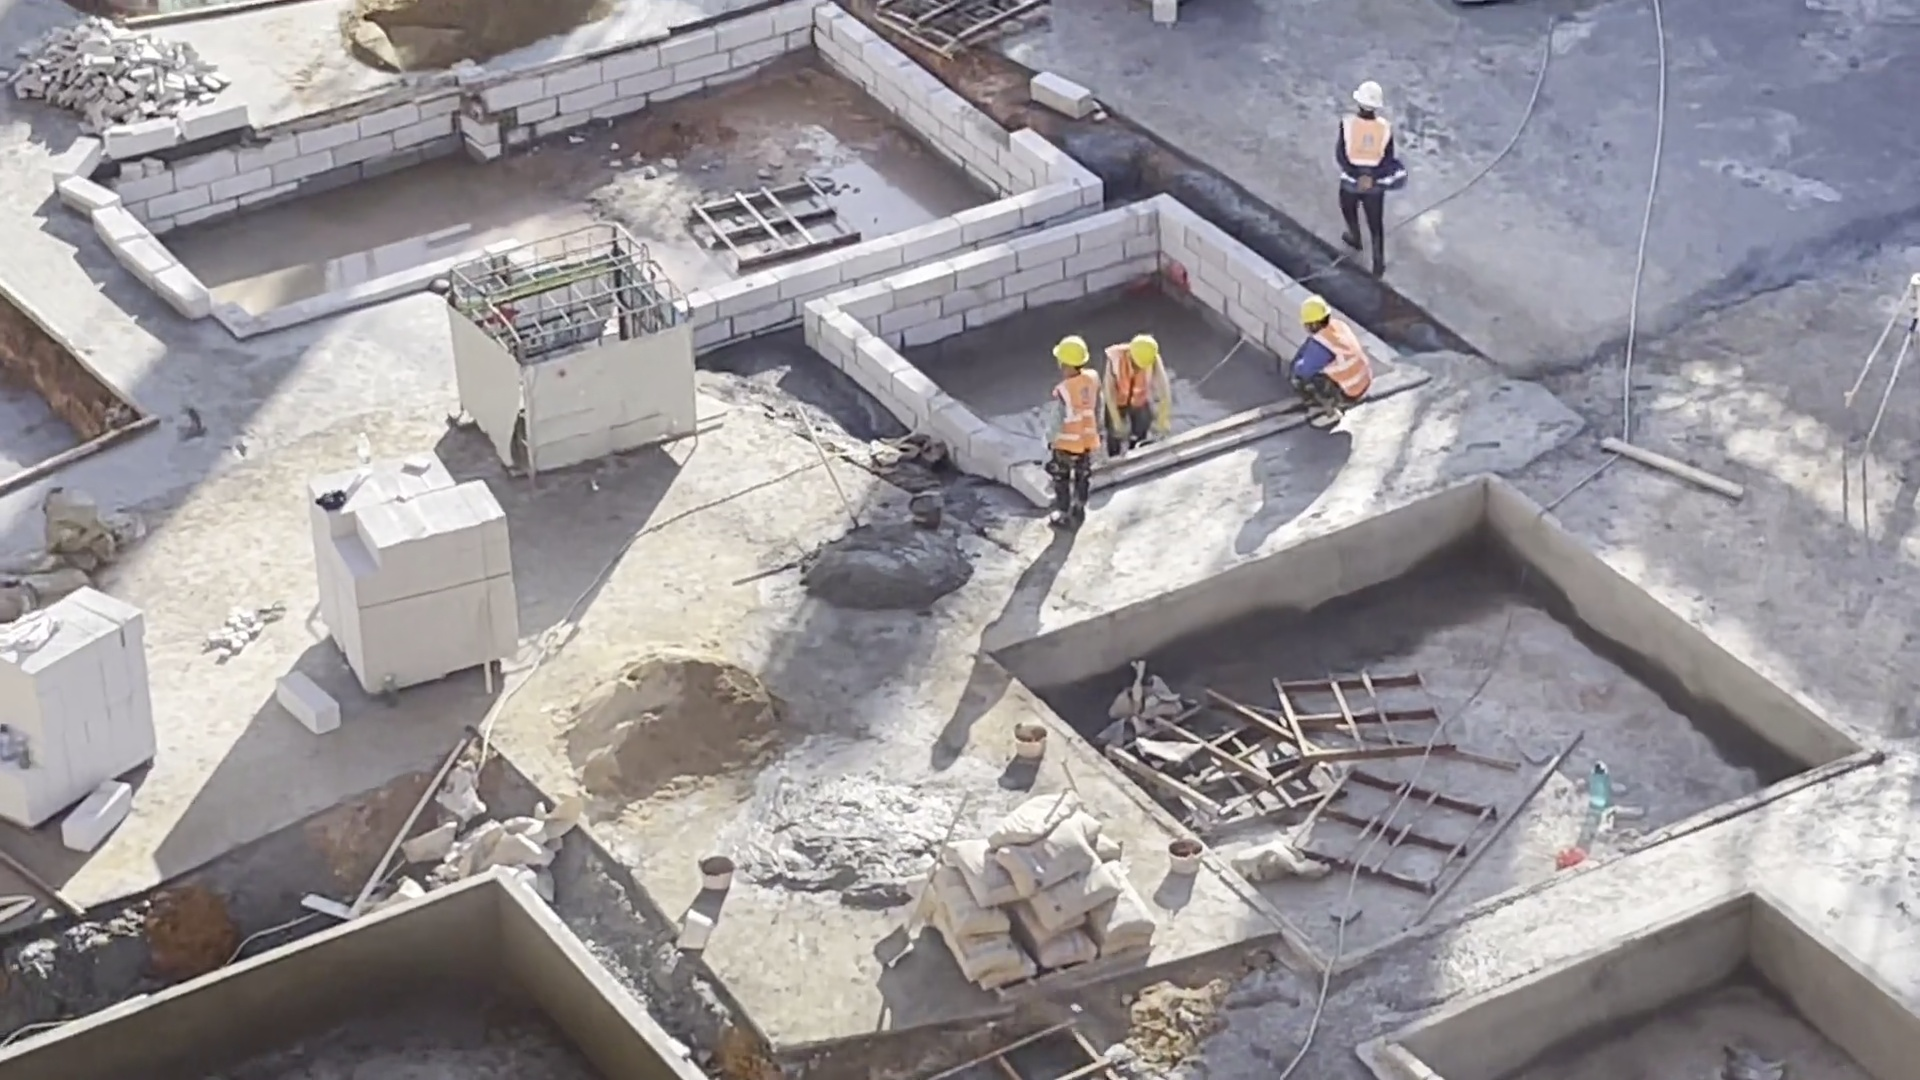brick: (301, 457, 520, 690), (1, 584, 163, 834)
helmet: (1286, 296, 1346, 331), (1045, 331, 1090, 372), (1353, 78, 1385, 122), (1123, 337, 1167, 368)
person: (1334, 67, 1406, 282), (1038, 329, 1105, 526), (1280, 298, 1371, 432), (1104, 331, 1184, 445)
vest: (1319, 319, 1370, 402), (1046, 375, 1098, 452), (1338, 101, 1393, 174), (1105, 348, 1157, 415)
